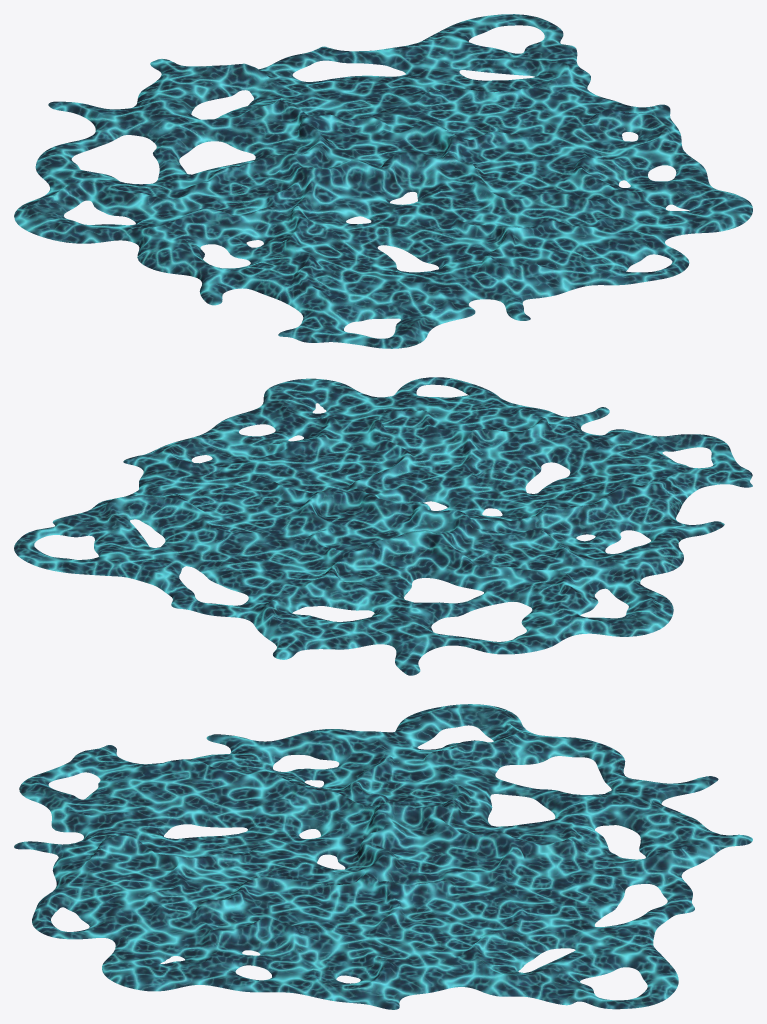
File: caos_stl_chaosgrowth_01a_soma_v36.glb
The picture shows the model from 3 angles, top to bottom: view 1: azimuth 30°, elevation 25°; view 2: azimuth 150°, elevation 25°; view 3: azimuth 270°, elevation 25°; orthographic projection. The views are drawn at different scales.
Parts seen in each view (by area): view 1: caos_stl_chaosgrowth_01a; view 2: caos_stl_chaosgrowth_01a; view 3: caos_stl_chaosgrowth_01a.
Boxes of the visible parts, x1,y1,x2,y2 form: caos_stl_chaosgrowth_01a: (14, 14, 752, 348); caos_stl_chaosgrowth_01a: (14, 377, 752, 675); caos_stl_chaosgrowth_01a: (14, 704, 752, 1009).
Bounding box in the file's own units: 22.39 × 0.96 × 22.87.
1 material, 1 textured.
